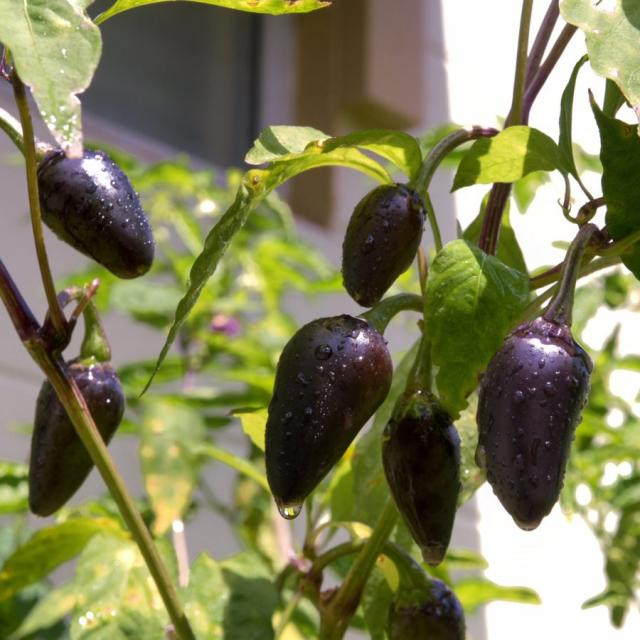aji: (502, 320, 614, 526), (276, 316, 380, 508), (41, 143, 162, 284), (28, 352, 126, 475)
